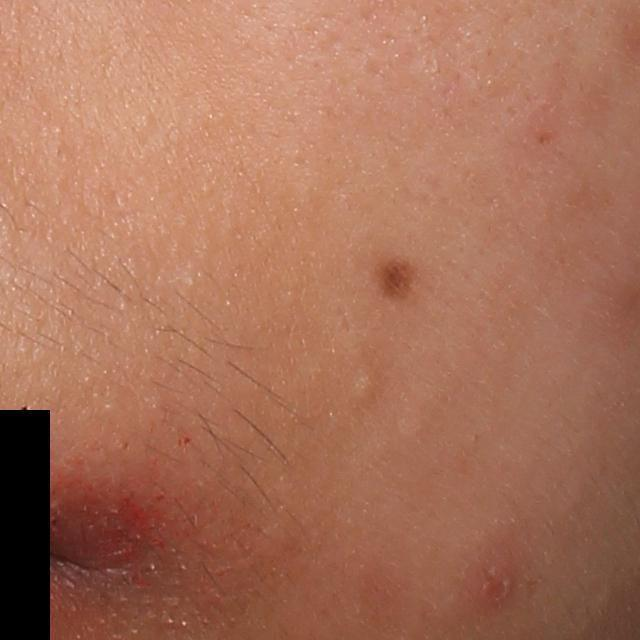comedo: (345, 368, 383, 406)
nevus: (372, 254, 419, 305)
papule: (457, 539, 533, 607)
